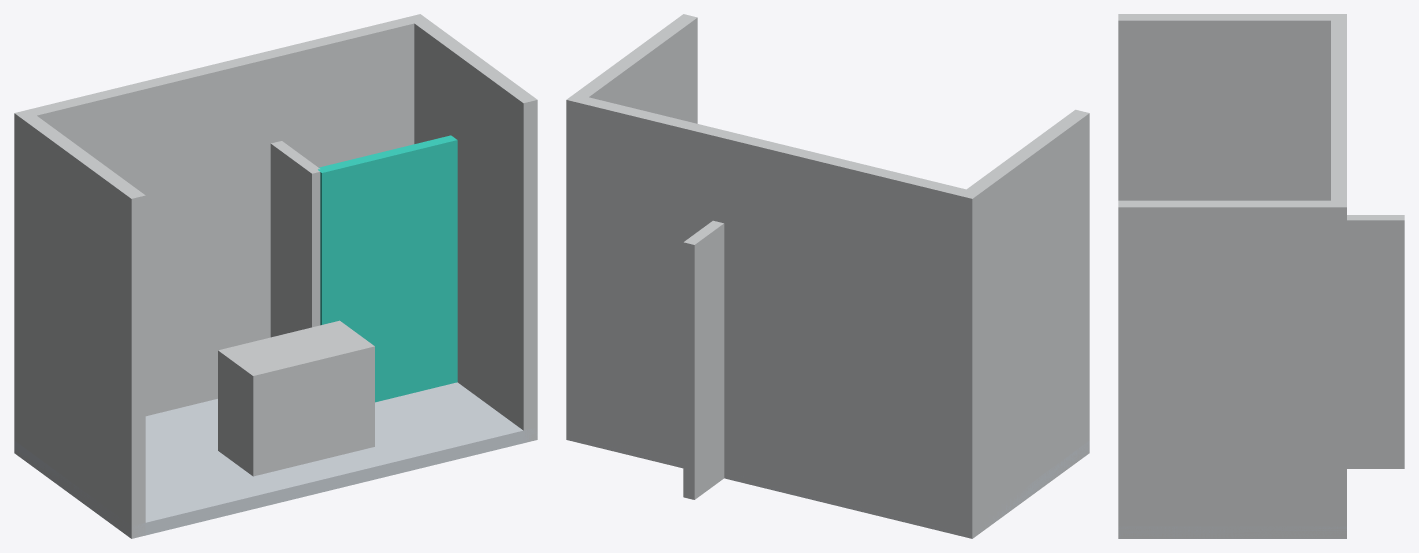
3 renders of one model, left to right at view 1: azimuth 30°, elevation 25°; view 2: azimuth 150°, elevation 25°; view 3: azimuth 270°, elevation 25°, orthographic. The views are drawn at different scales.
Parts seen in each view (by area): view 1: Exhibition Booth Concept; view 2: Exhibition Booth Concept; view 3: Exhibition Booth Concept.
Part boxes in pixels (left/top/right/bottom): Exhibition Booth Concept: left=14, top=14, right=537, bottom=538; Exhibition Booth Concept: left=566, top=14, right=1089, bottom=538; Exhibition Booth Concept: left=1118, top=14, right=1404, bottom=538.
Bounding box in the file's own units: 4 × 3.2 × 2.5.
